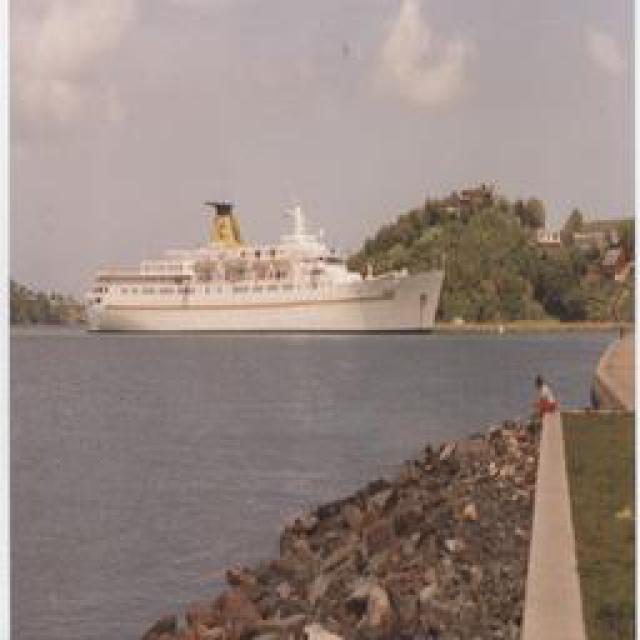Ship: (86, 219, 449, 334)
